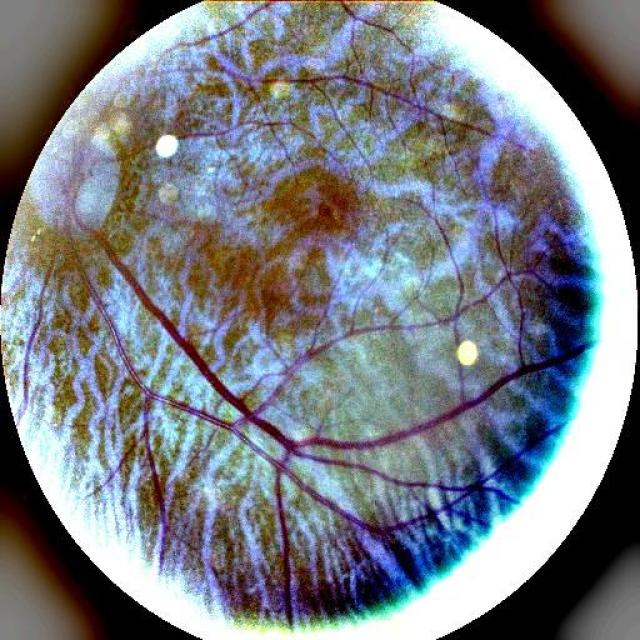Macula: (294, 187, 360, 250)
Nerves: (61, 191, 595, 457), (59, 227, 401, 555), (67, 0, 474, 173)
Optic Disk: (6, 105, 123, 266)
